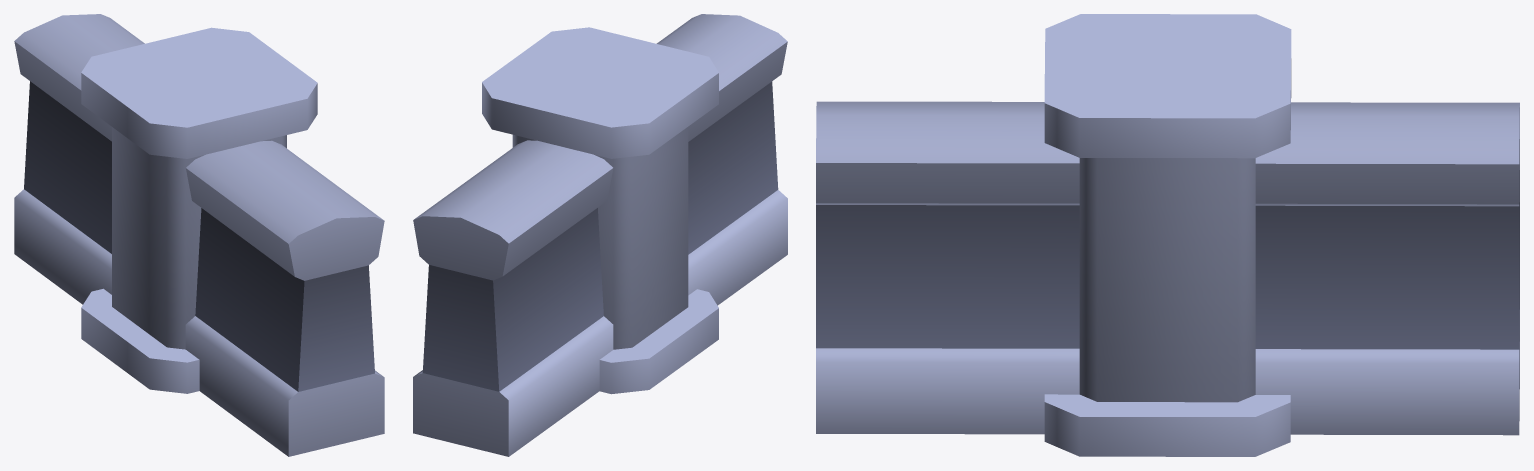
File: stone-wall-column.009_lev1.glb
3 views of the same model, side by side, from view 1: azimuth 30°, elevation 25°; view 2: azimuth 150°, elevation 25°; view 3: azimuth 270°, elevation 25° (orthographic). The views are drawn at different scales.
Visible parts, largest first — view 1: stone-wall-column.009_lev1; view 2: stone-wall-column.009_lev1; view 3: stone-wall-column.009_lev1.
Boxes of the visible parts, x1,y1,x2,y2 form: stone-wall-column.009_lev1: (14,14,384,456); stone-wall-column.009_lev1: (413,14,787,456); stone-wall-column.009_lev1: (816,14,1519,456).
Size of the model in its own units: 0.7022 by 1.06 by 2.
1 material, 1 textured.
